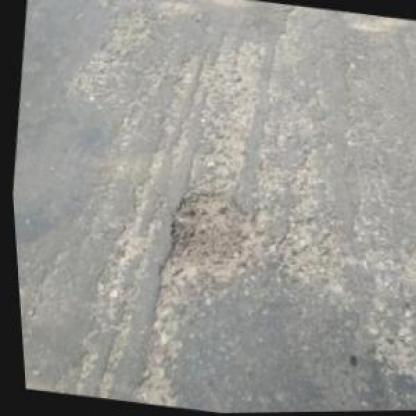pothole: (147, 183, 257, 294)
